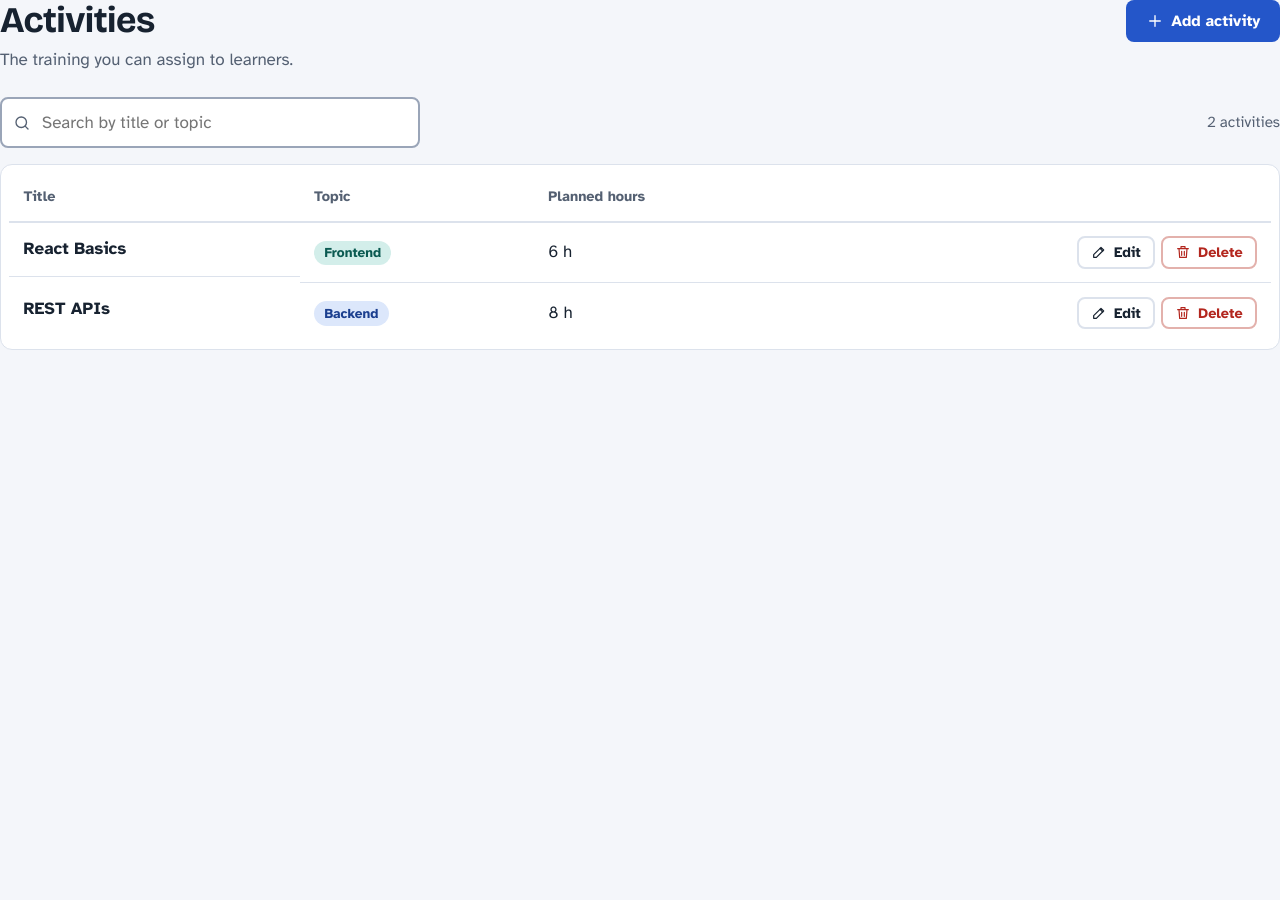
Test: deleting an activity › asks first, then deletes and refreshes the list
Click the button with aria-label "Delete REST APIs" at (1209,313), box [1161,297,1257,329]
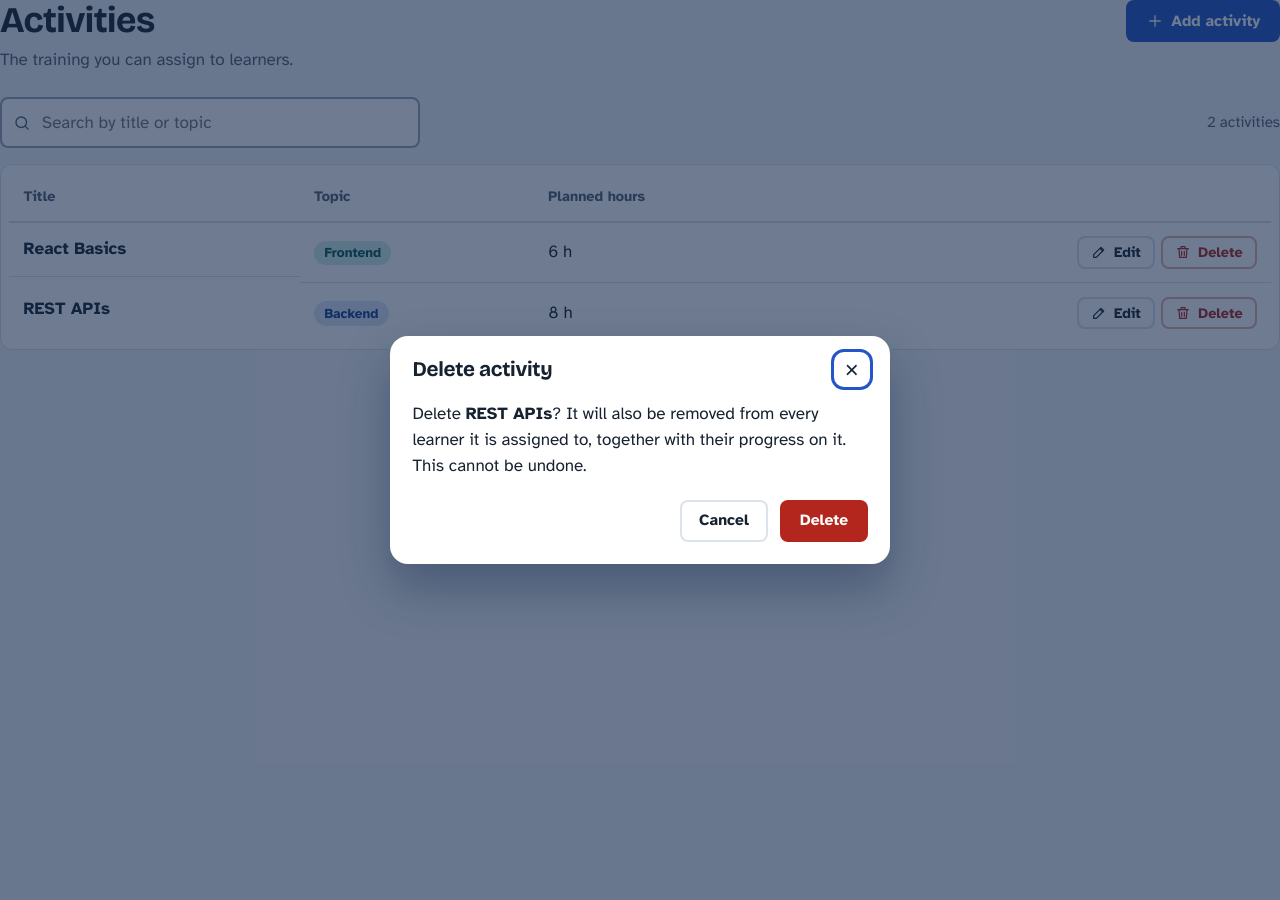
Expected: the dialog "Delete activity" shows "removed from every learner", [412,403,846,476]
Click the button "Delete" at (824,521), box [780,500,868,542]
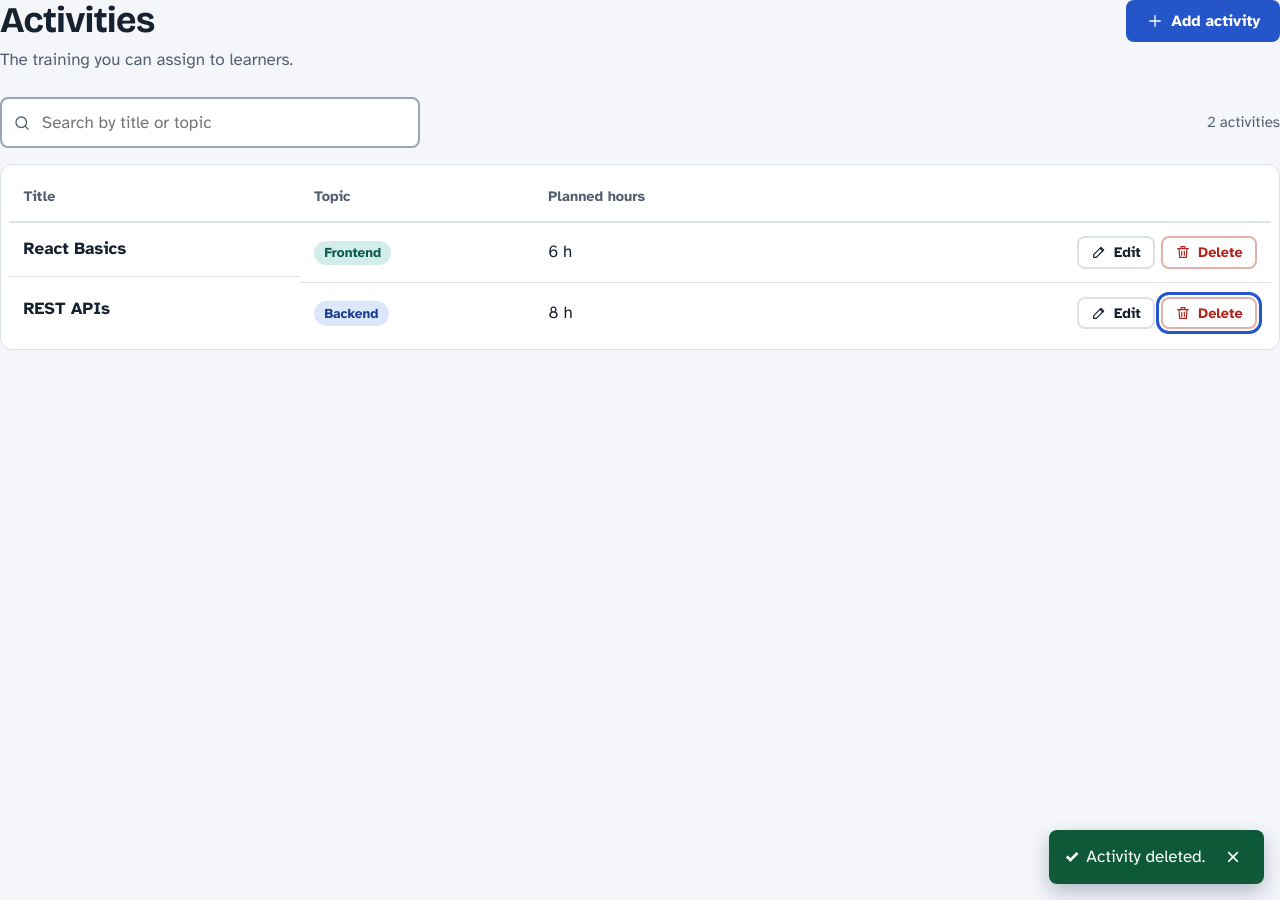
Expected: the text "Activity deleted." is shown, [1086,846,1205,867]
